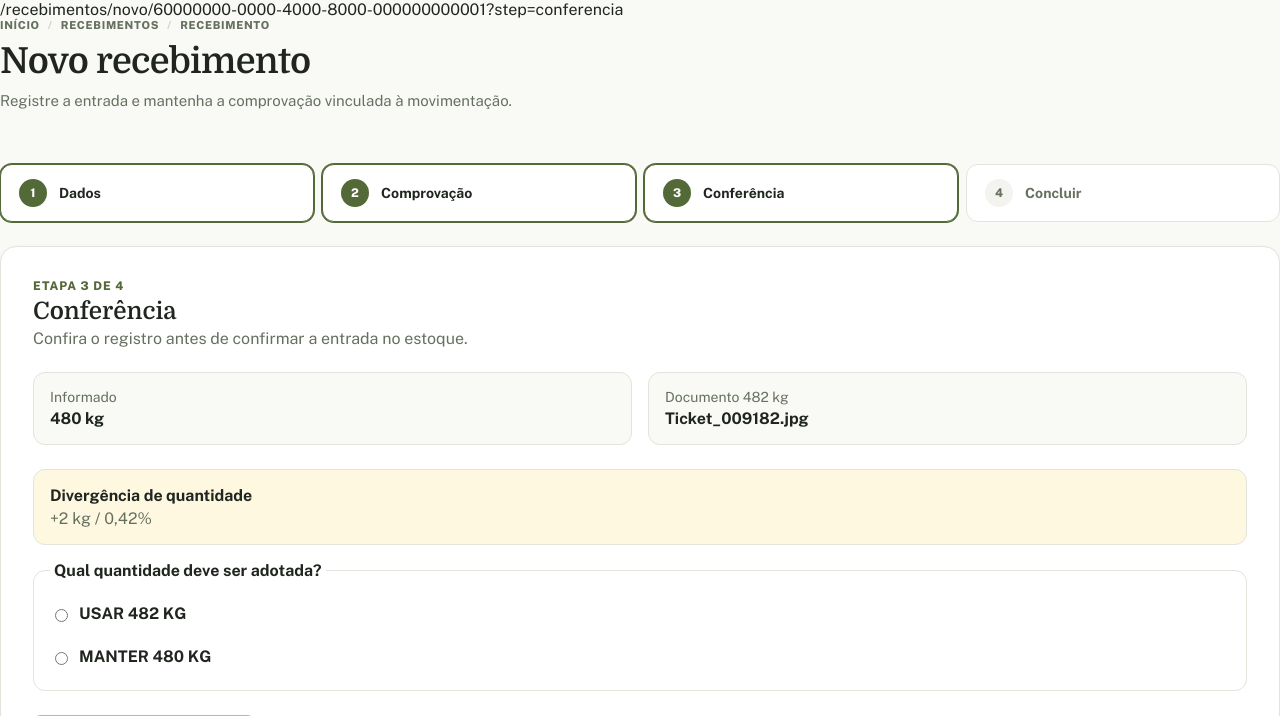
Scenario: ReceiptFlowPage › renders previous stock + adopted quantity = new stock after confirmation
Click the radio button labelled "MANTER 480 KG" at (62, 658), box [55,652,68,665]
(page scrolled)
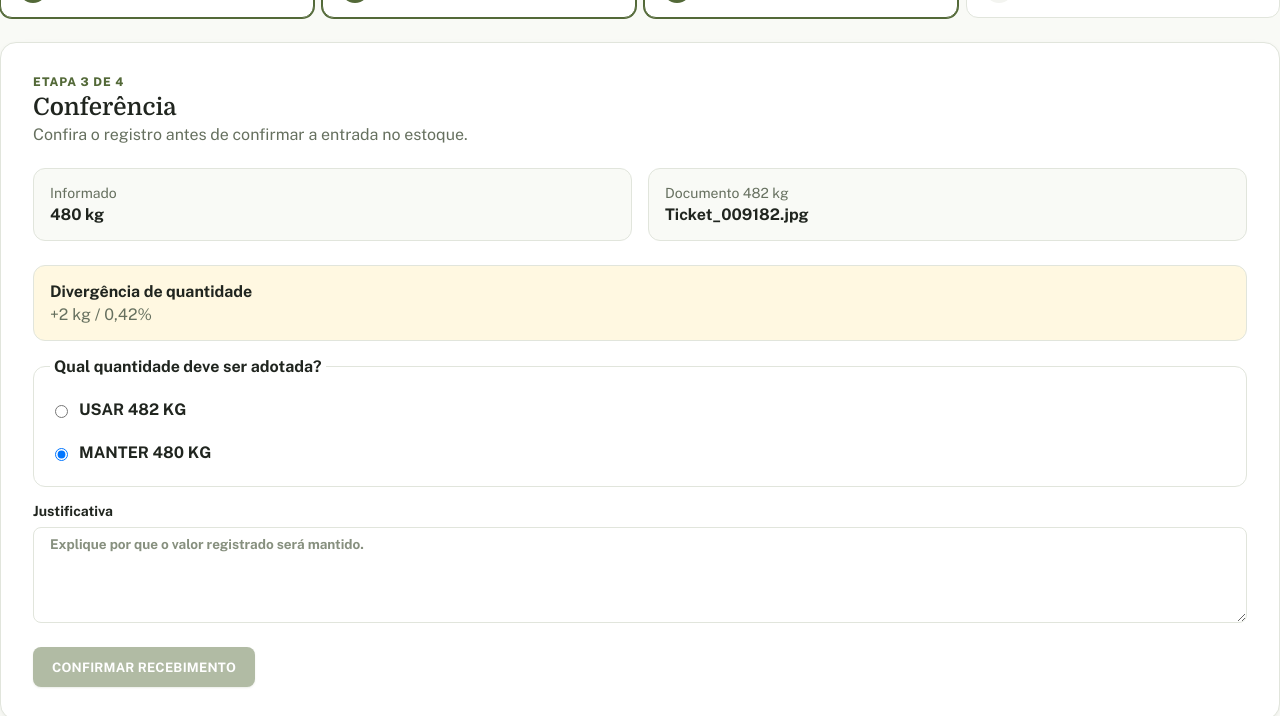
Type "Quantidade operacional confirmada." into the text box labelled "Justificativa" at (640, 575), box [33,527,1247,623]
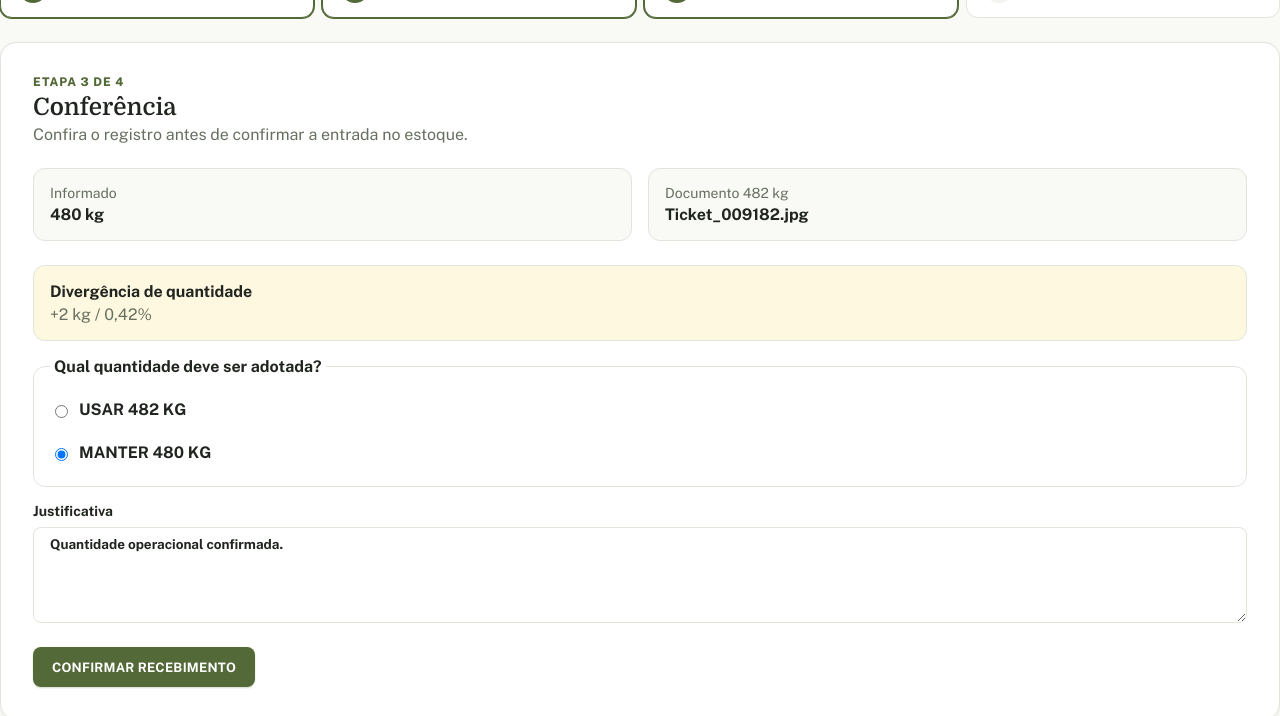
Click the button "CONFIRMAR RECEBIMENTO" at (144, 667), box [33,647,255,687]
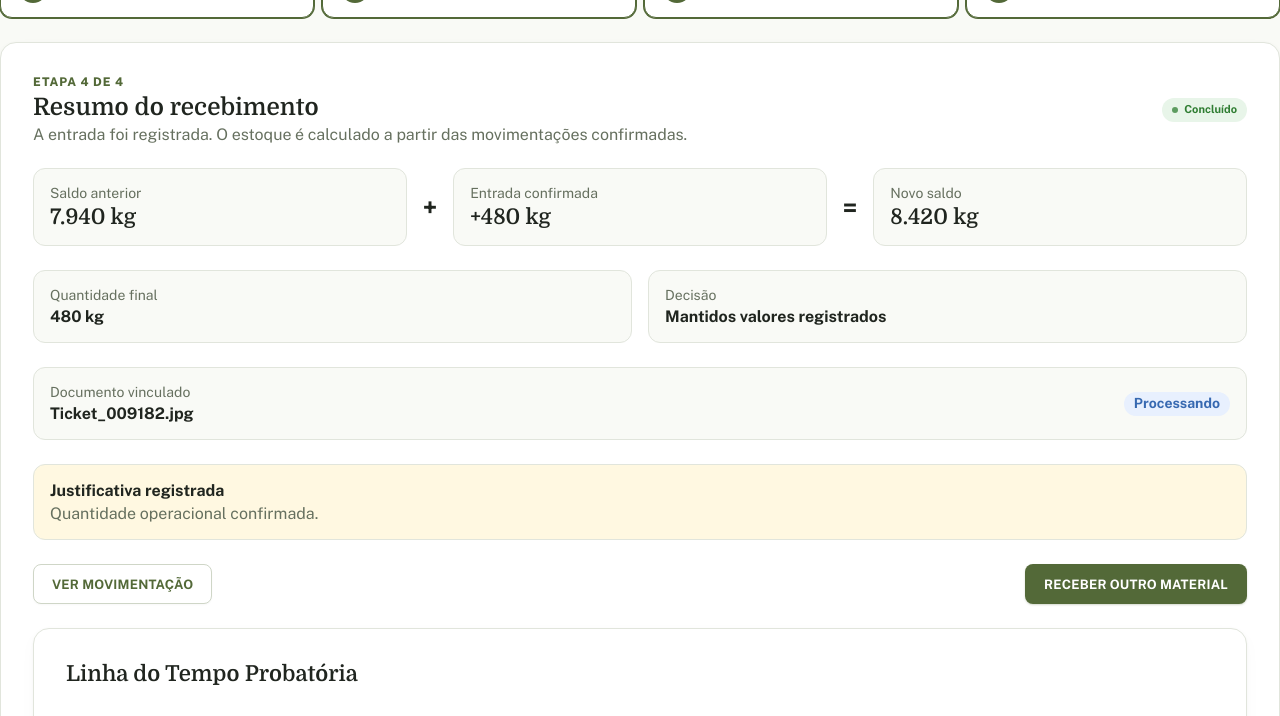
Now the text "7.940 kg" is shown, box [50,205,136,229]
Now the text "+480 kg" is shown, box [470,205,551,229]
Now the text "8.420 kg" is shown, box [890,205,978,229]
